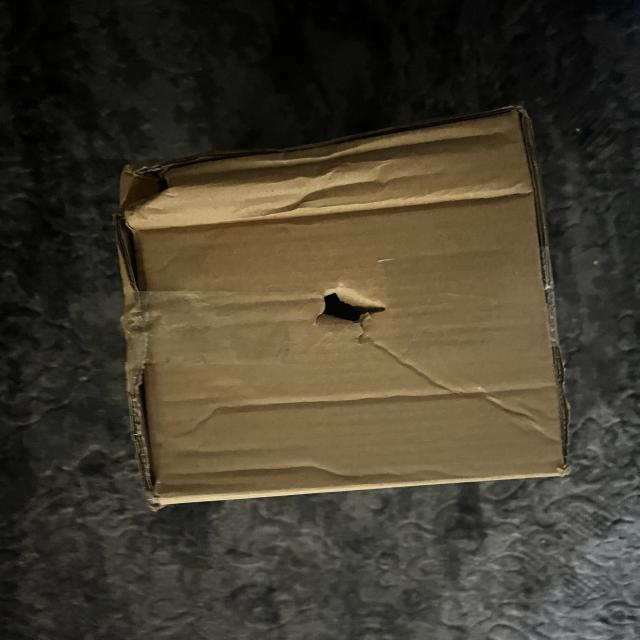damaged: (119, 107, 584, 505), (96, 144, 216, 245), (258, 135, 398, 210), (296, 273, 415, 351)
